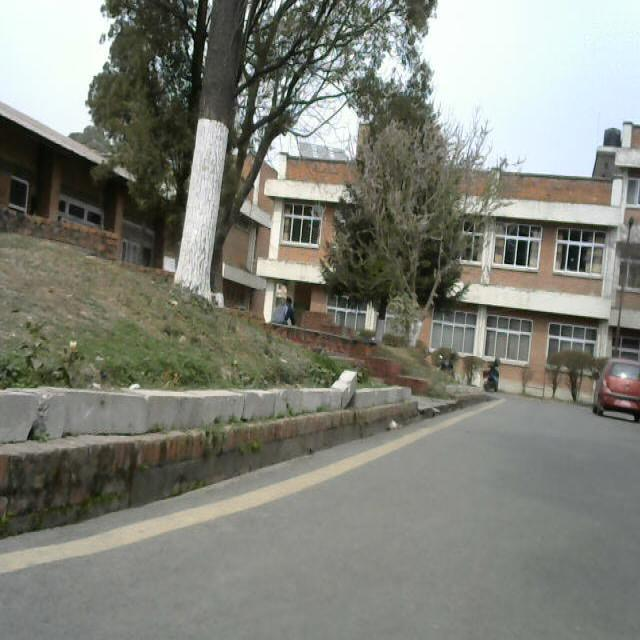Buildings: (513, 156, 608, 335)
Car: (594, 347, 640, 419)
Pole: (618, 206, 636, 348)
Road: (0, 380, 640, 640)
grass: (3, 238, 306, 390)
trees: (178, 0, 326, 305), (348, 80, 478, 323), (84, 10, 192, 194)
